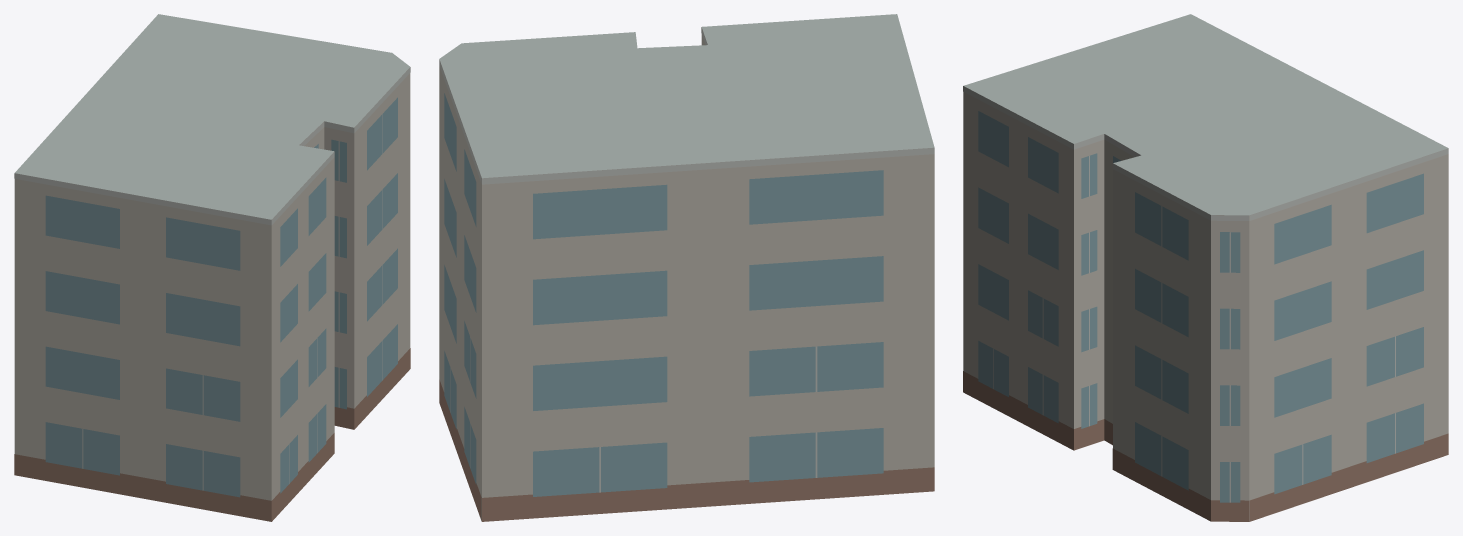
The model's file is survey-upis-32779643.glb.
3 renders of one model, left to right at view 1: azimuth 30°, elevation 25°; view 2: azimuth 150°, elevation 25°; view 3: azimuth 270°, elevation 25°, orthographic. The views are drawn at different scales.
Visible parts, largest first — view 1: survey-upis-32779643.tmp; view 2: survey-upis-32779643.tmp; view 3: survey-upis-32779643.tmp.
Part boxes in pixels (x1=…): survey-upis-32779643.tmp: x1=14, y1=14, x2=410, y2=521; survey-upis-32779643.tmp: x1=439, y1=14, x2=934, y2=521; survey-upis-32779643.tmp: x1=963, y1=14, x2=1448, y2=521.
Size of the model in its own units: 18.32 by 13 by 18.67.
